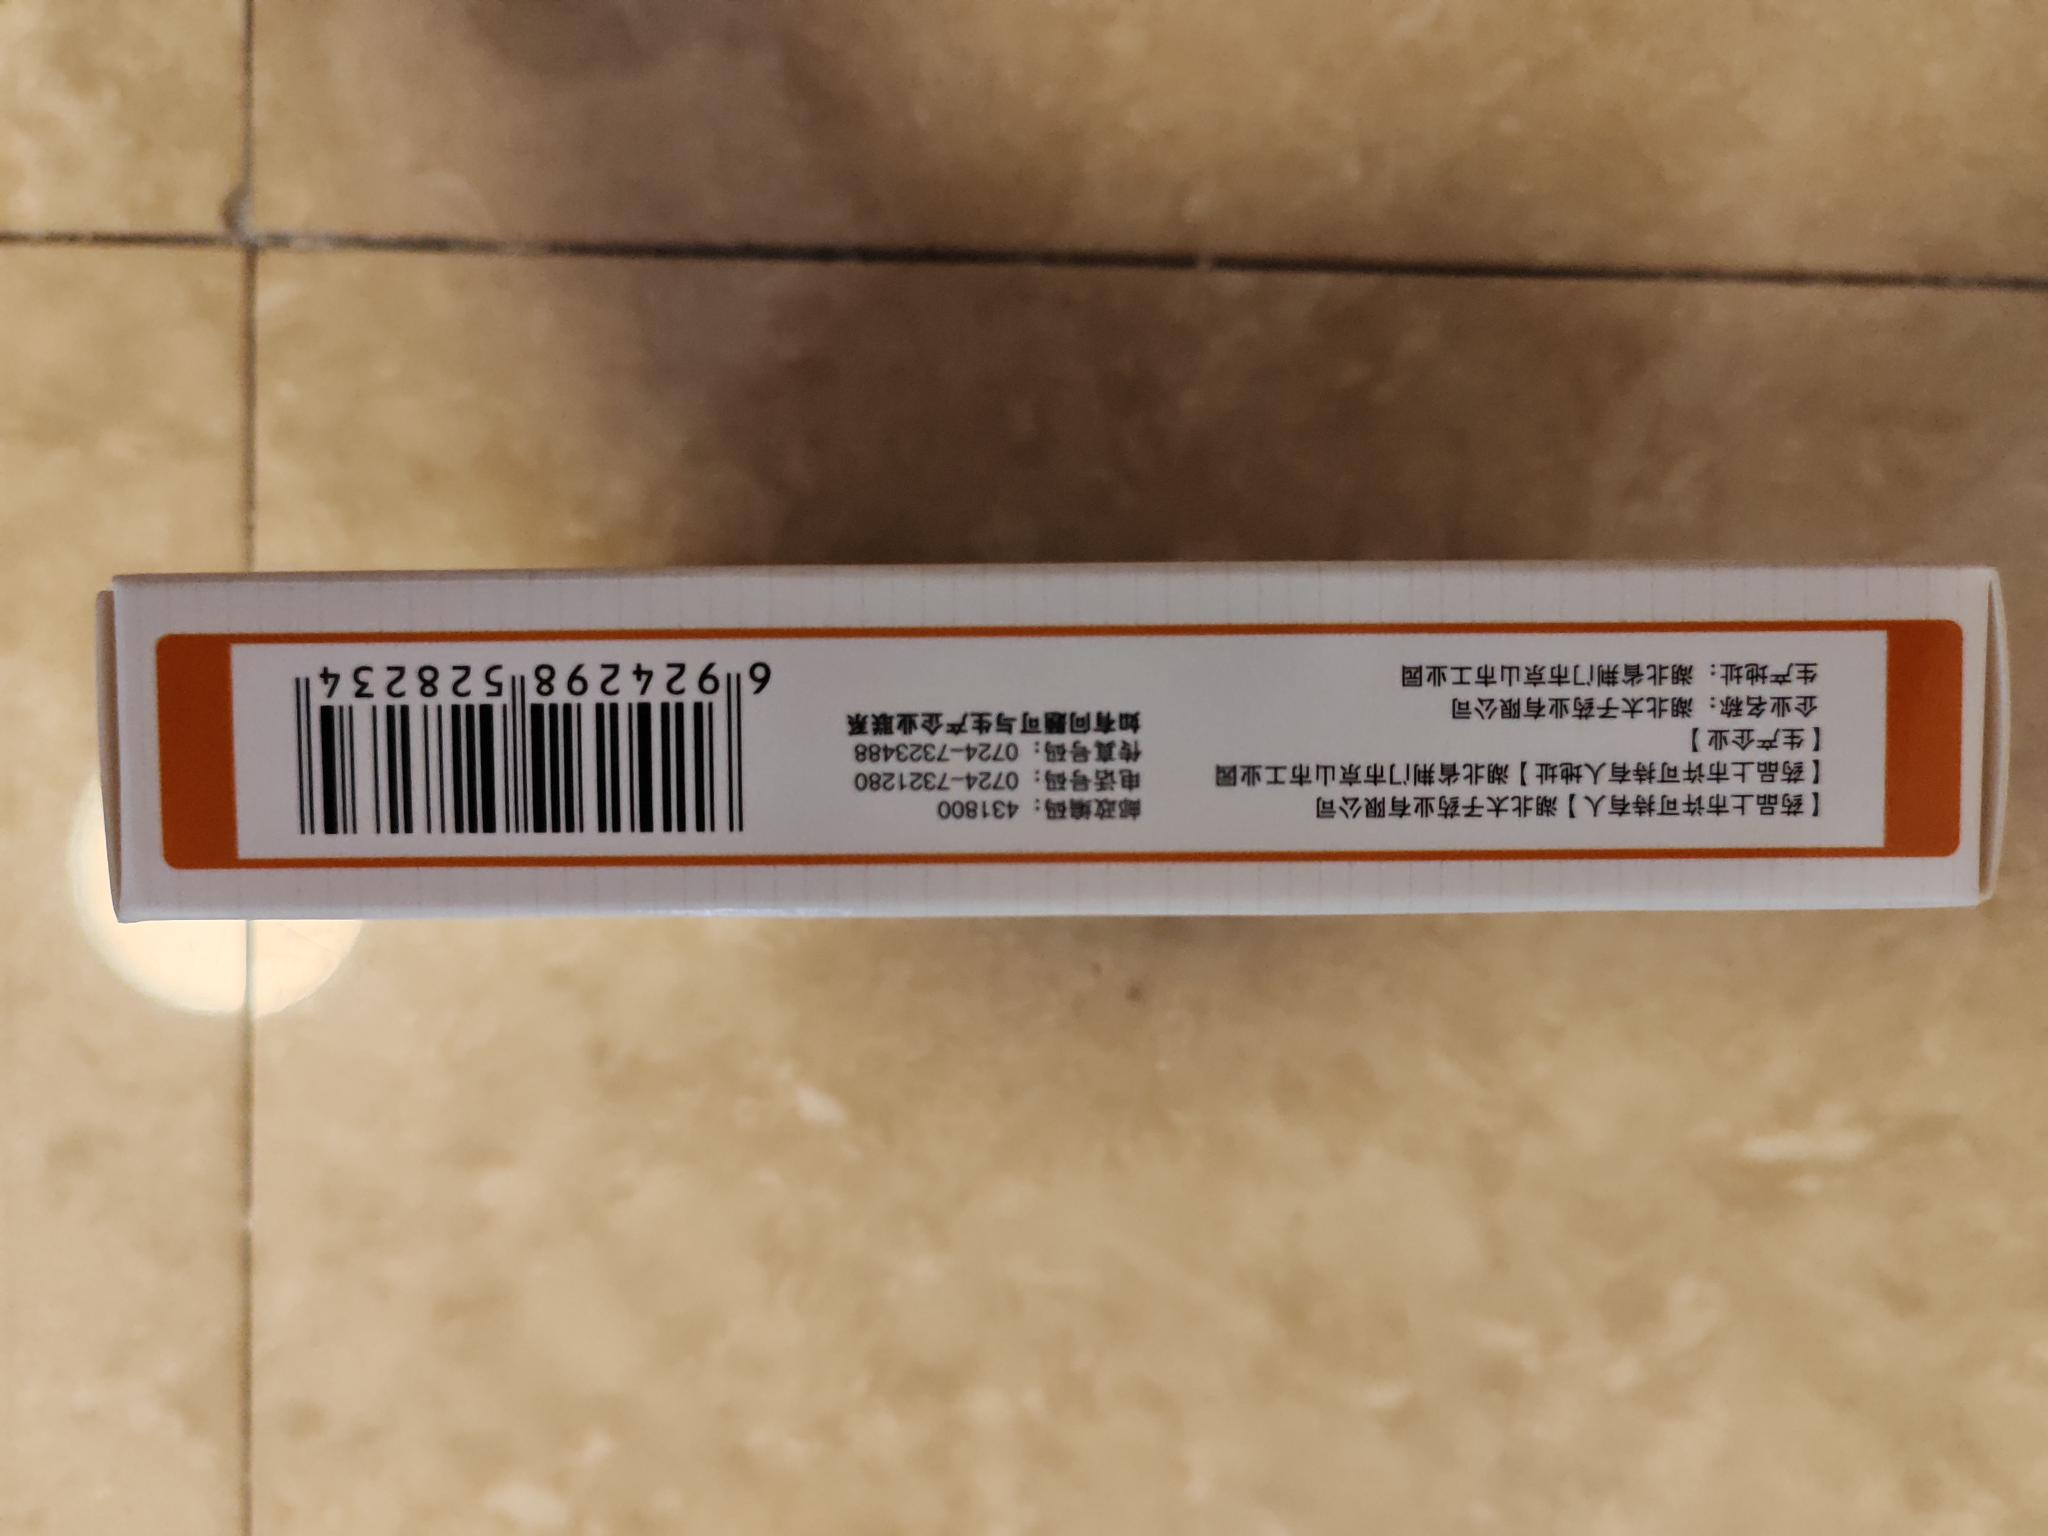Medicine5: (66, 524, 2032, 957)
